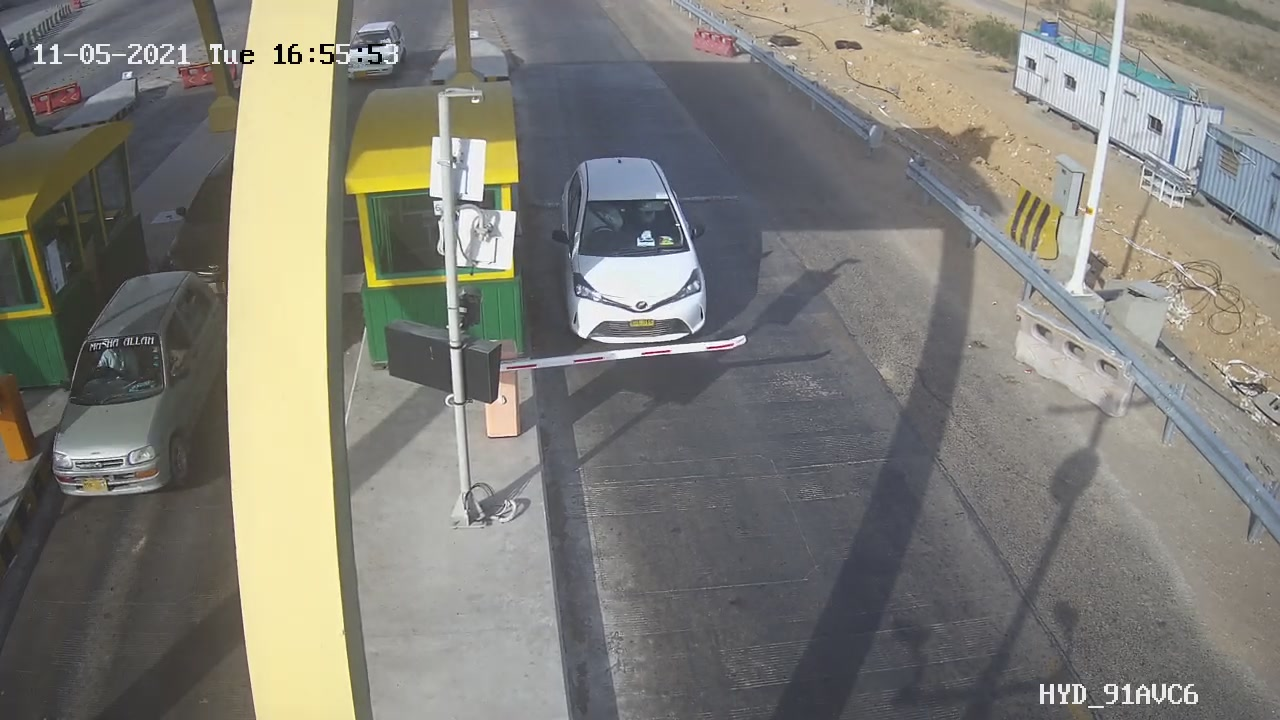F1: (537, 142, 740, 365)
